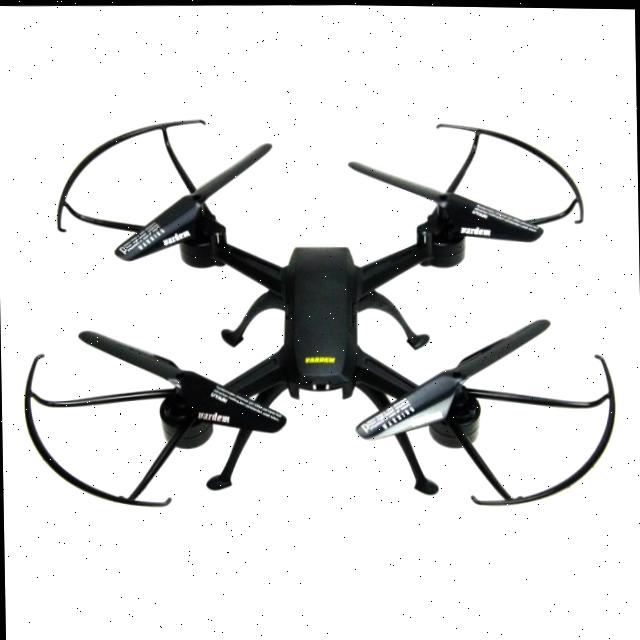drone: (20, 106, 636, 537)
